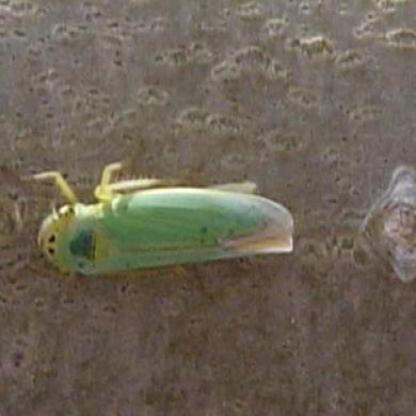Green-Leafhopper: (31, 164, 301, 279)
